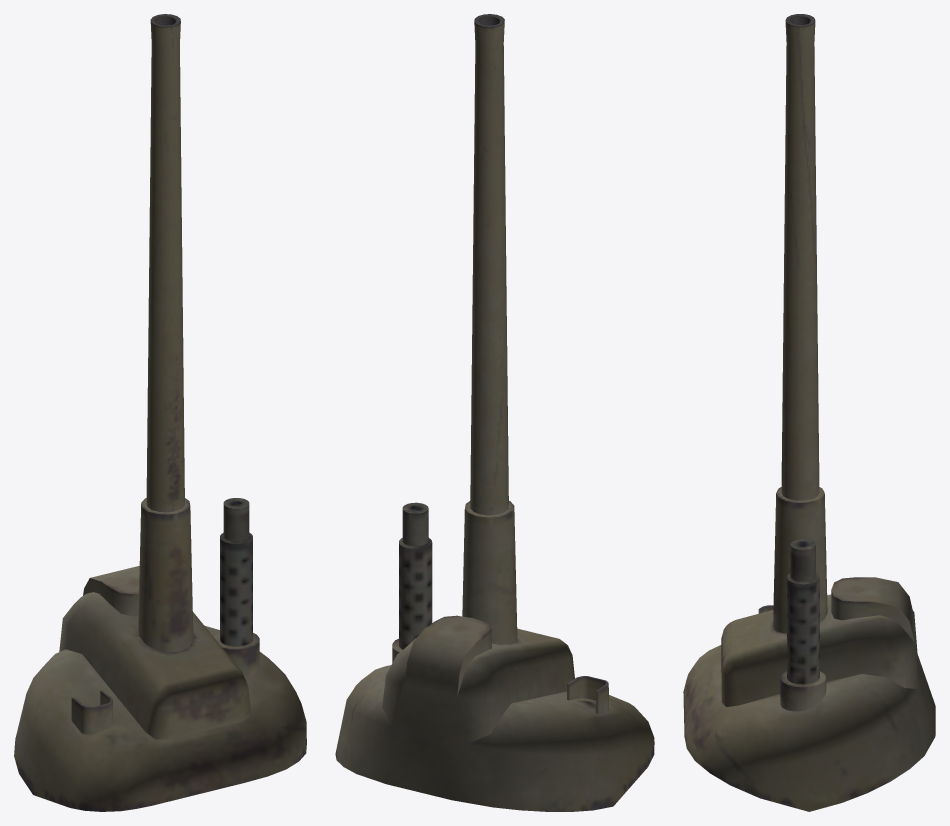
Rendered from Gun_04.glb.
3 renders of one model, left to right at view 1: azimuth 30°, elevation 25°; view 2: azimuth 150°, elevation 25°; view 3: azimuth 270°, elevation 25°, orthographic. The views are drawn at different scales.
Parts seen in each view (by area): view 1: set_0_group_0; view 2: set_0_group_0; view 3: set_0_group_0.
Part boxes in pixels (x1,y1,x2,y2): set_0_group_0: [14, 14, 306, 811]; set_0_group_0: [335, 14, 654, 811]; set_0_group_0: [683, 14, 935, 811].
Size of the model in its own units: 0.51 by 1.41 by 0.4421.
1 material, 1 textured.
